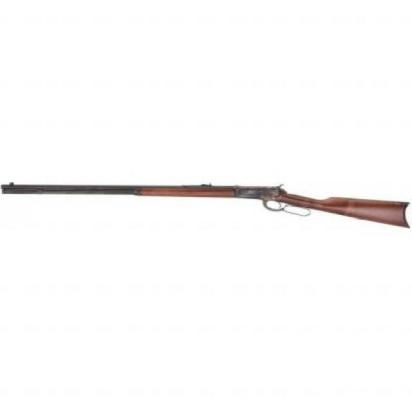Gun: (0, 174, 412, 236)
